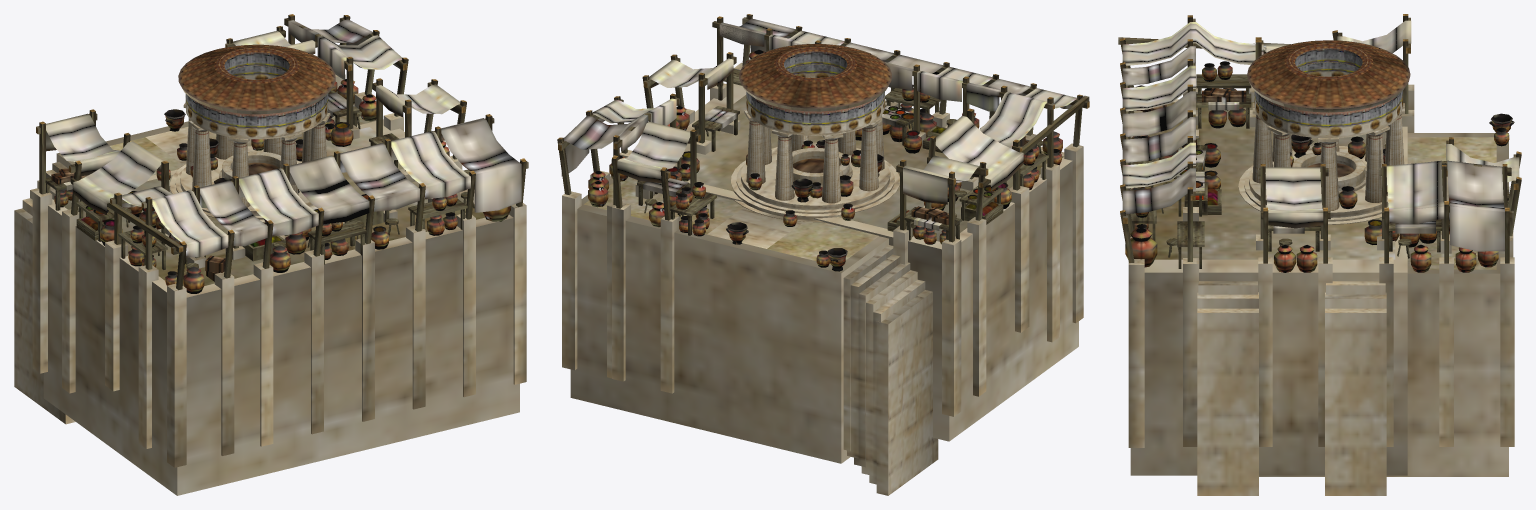
Rendered from spart_market.glb.
3 renders of one model, left to right at view 1: azimuth 30°, elevation 25°; view 2: azimuth 150°, elevation 25°; view 3: azimuth 270°, elevation 25°, orthographic. The views are drawn at different scales.
Parts seen in each view (by area): view 1: spart_market_part0; view 2: spart_market_part0; view 3: spart_market_part0.
Boxes of the visible parts, <box> form: spart_market_part0: <box>14,14,528,495</box>; spart_market_part0: <box>557,14,1089,495</box>; spart_market_part0: <box>1118,14,1521,495</box>.
Bounding box in the file's own units: 4.2 × 3.7 × 3.77.
1 material, 1 textured.
